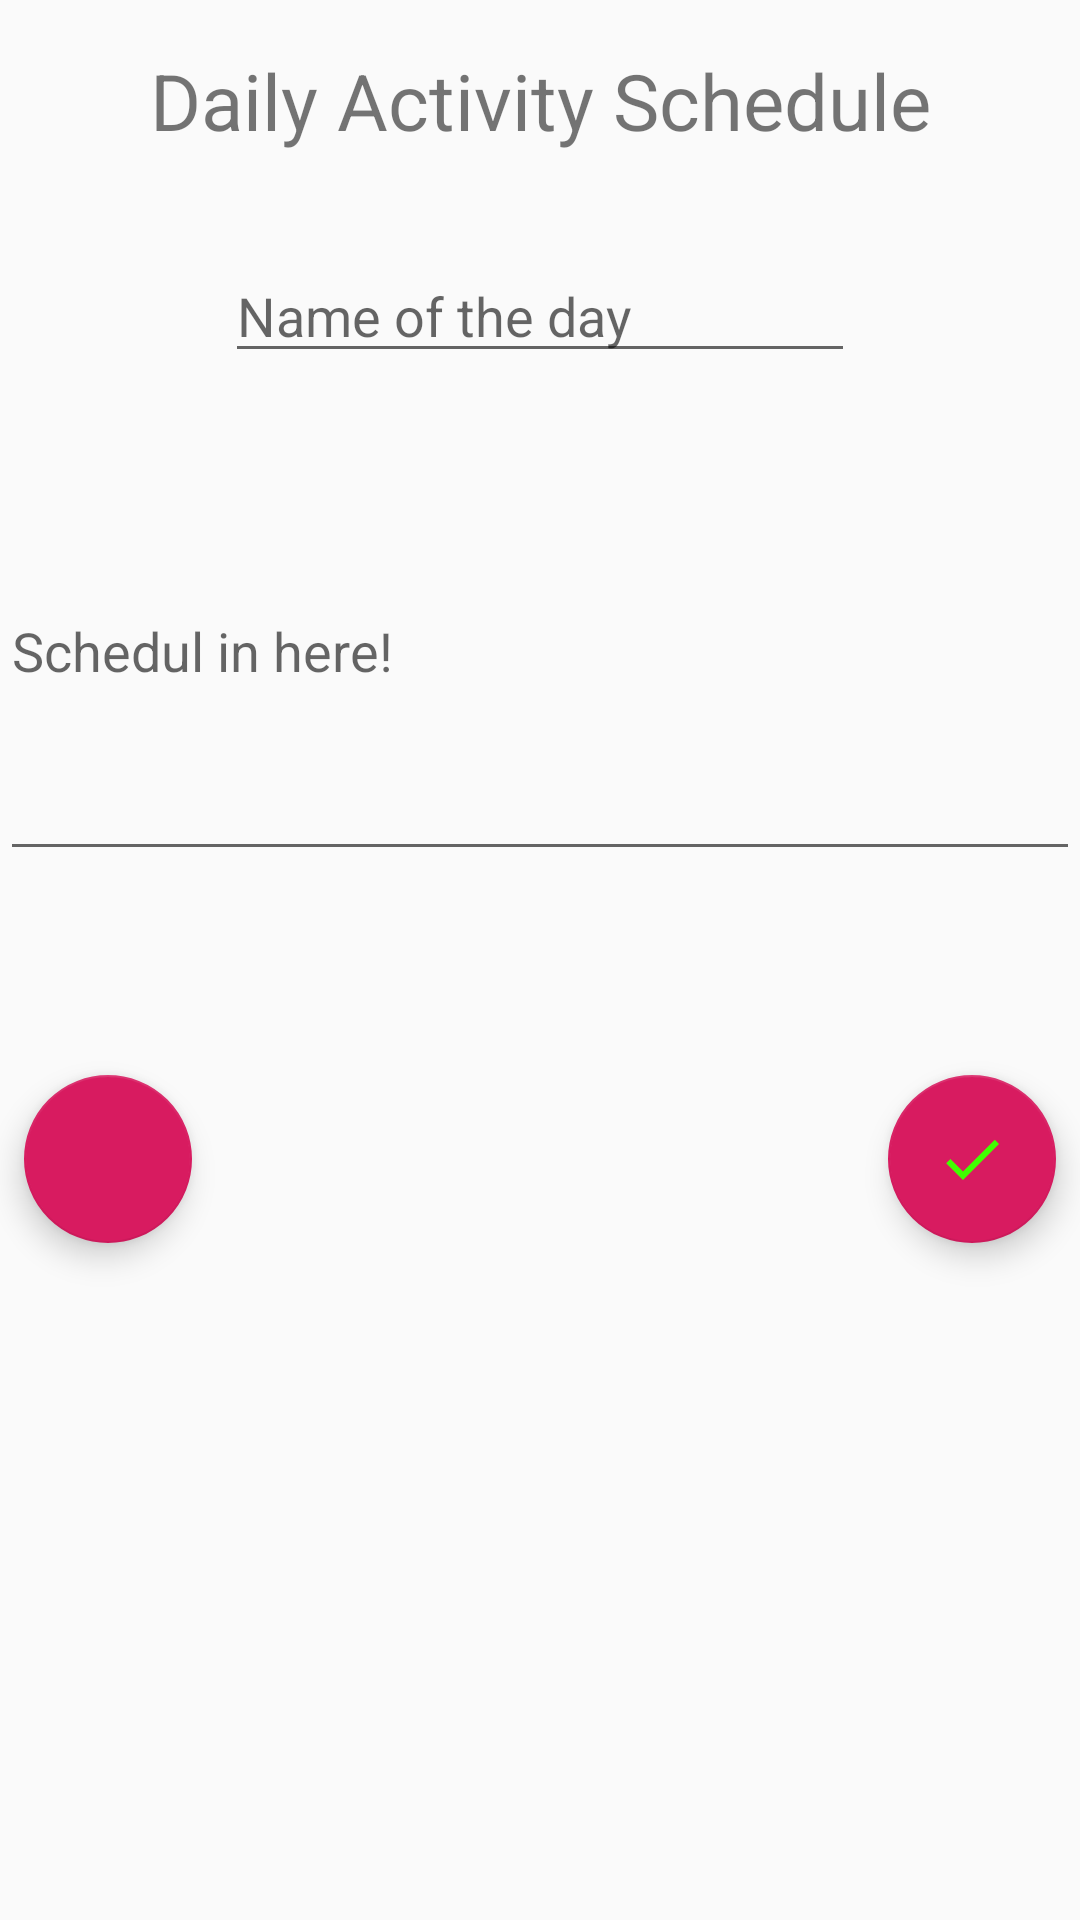

Where to tap for icons on this 1080×1920 app screen, as [x,y]:
done: [972,1159]
